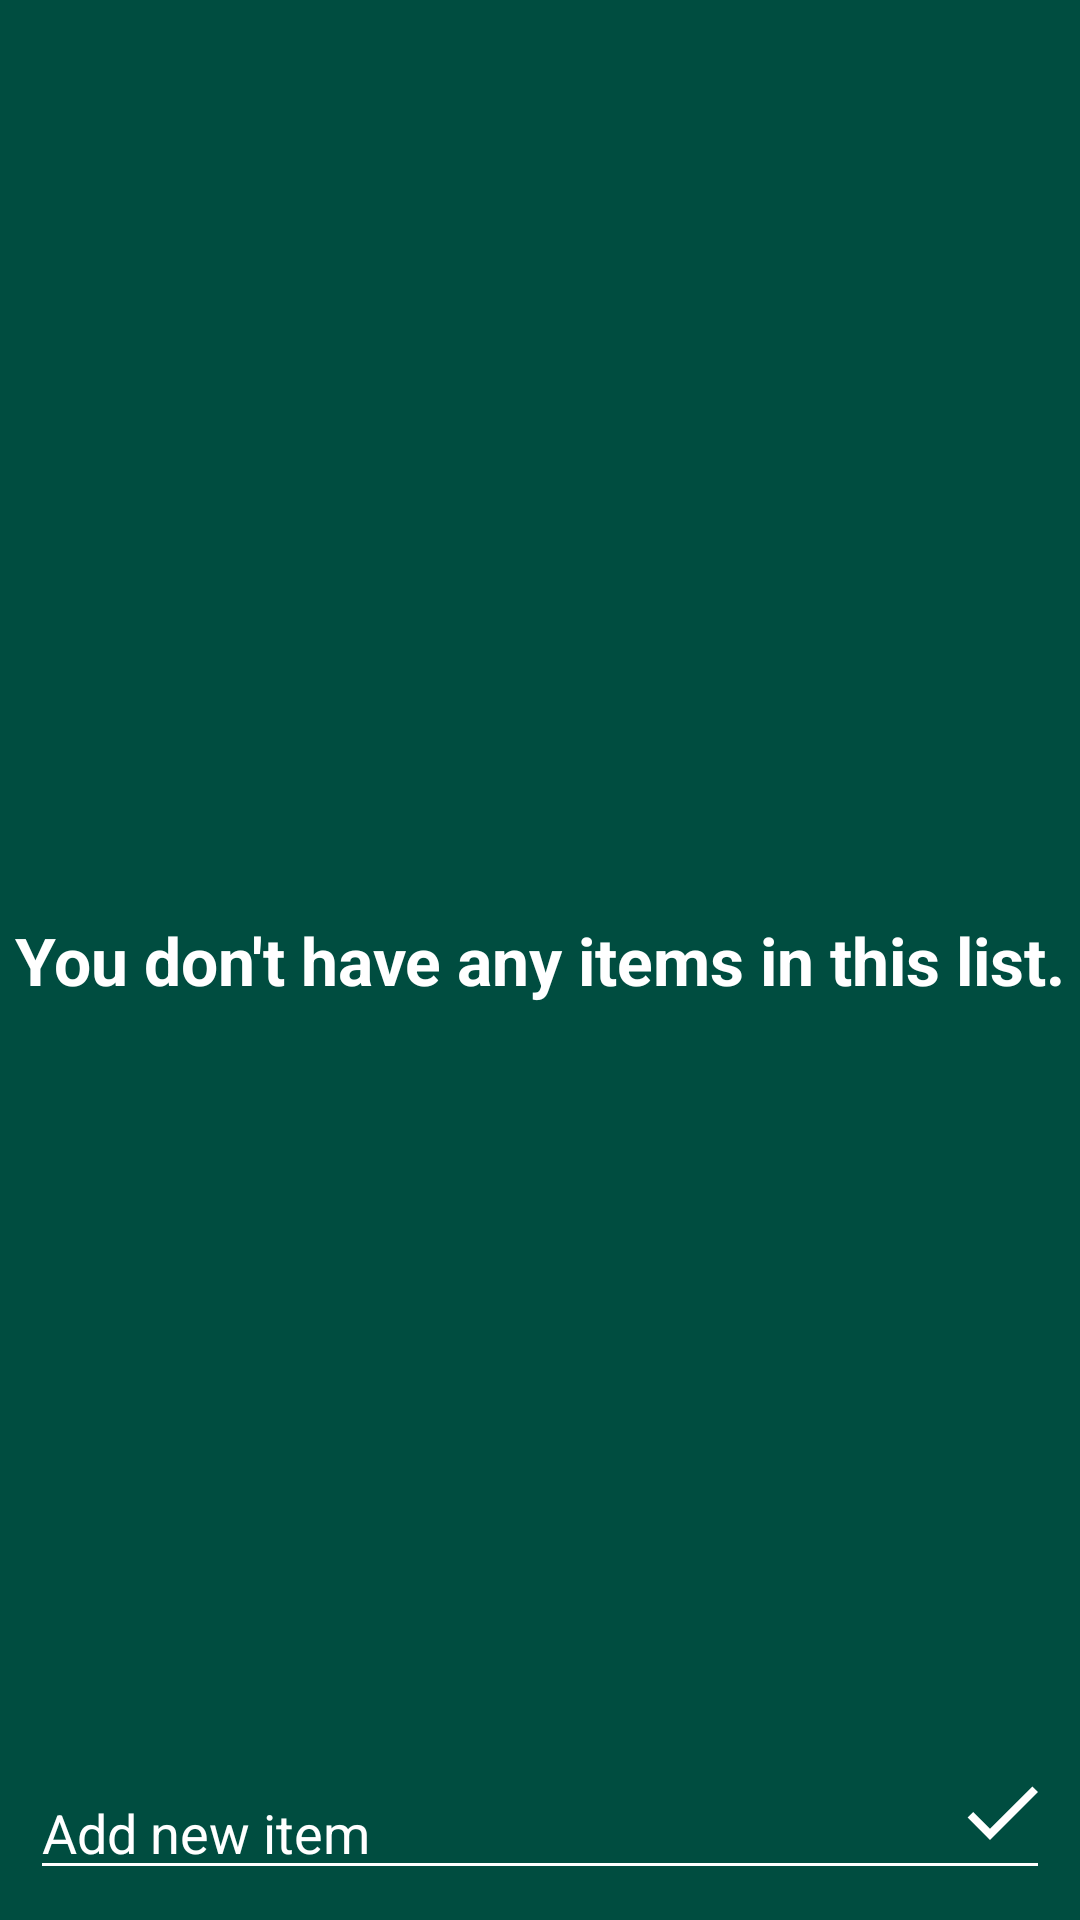

Named icons in this screenshot (1080px×1920px) and their centers, point (x, y):
save: point (1002, 1813)
